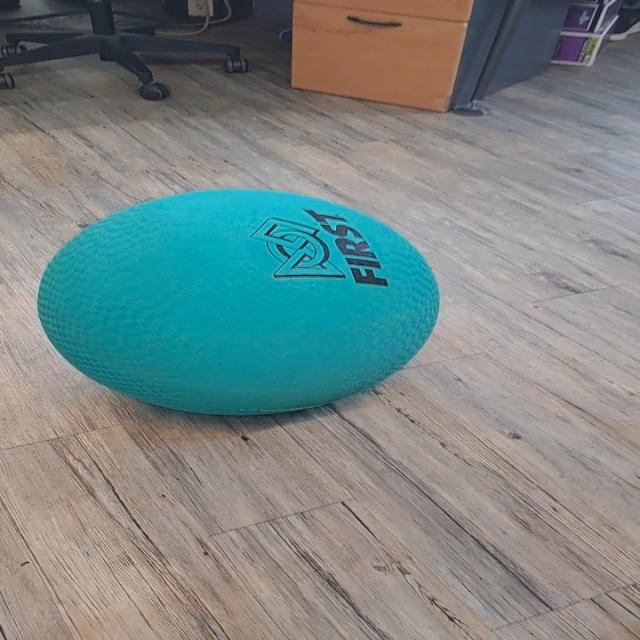ALGAE: (34, 187, 442, 417)
